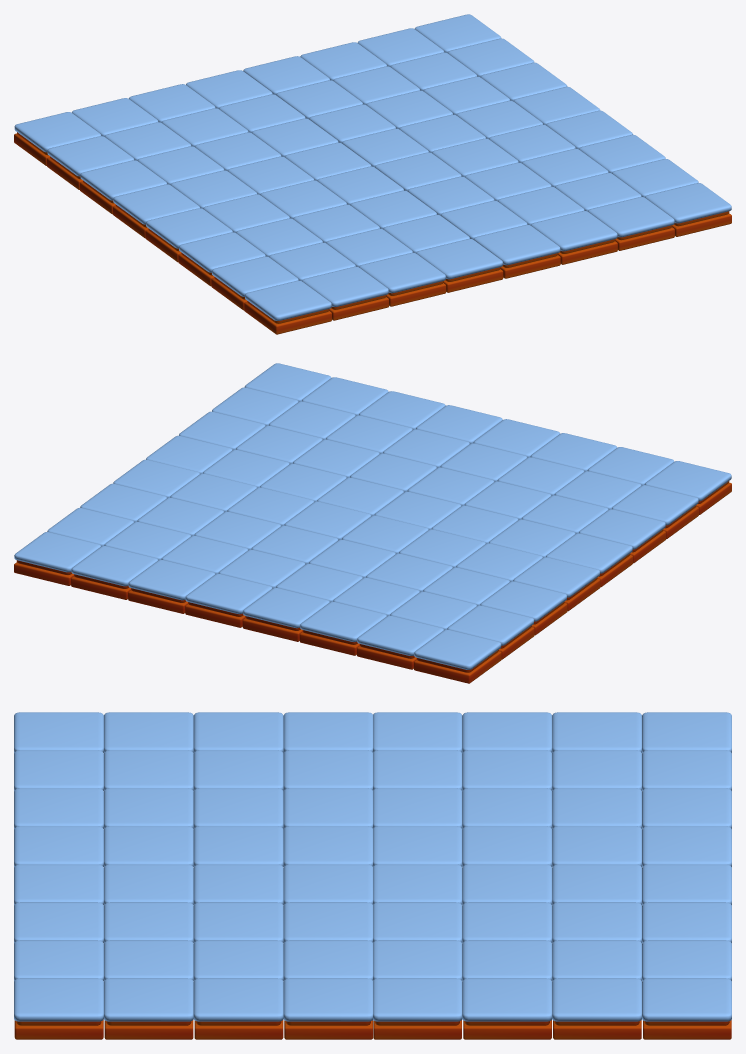
The model's file is floorpad_blue_large.glb.
3 renders of one model, top to bottom at view 1: azimuth 30°, elevation 25°; view 2: azimuth 150°, elevation 25°; view 3: azimuth 270°, elevation 25°, orthographic. The views are drawn at different scales.
Parts seen in each view (by area): view 1: Floorpad Blue Large.001; view 2: Floorpad Blue Large.001; view 3: Floorpad Blue Large.001.
Part boxes in pixels (bbox=[...]): Floorpad Blue Large.001: bbox=[14, 14, 731, 334]; Floorpad Blue Large.001: bbox=[14, 363, 731, 683]; Floorpad Blue Large.001: bbox=[14, 712, 731, 1039].
Size of the model in its own units: 8.85 by 0.3474 by 8.83.
1 material, 1 textured.
